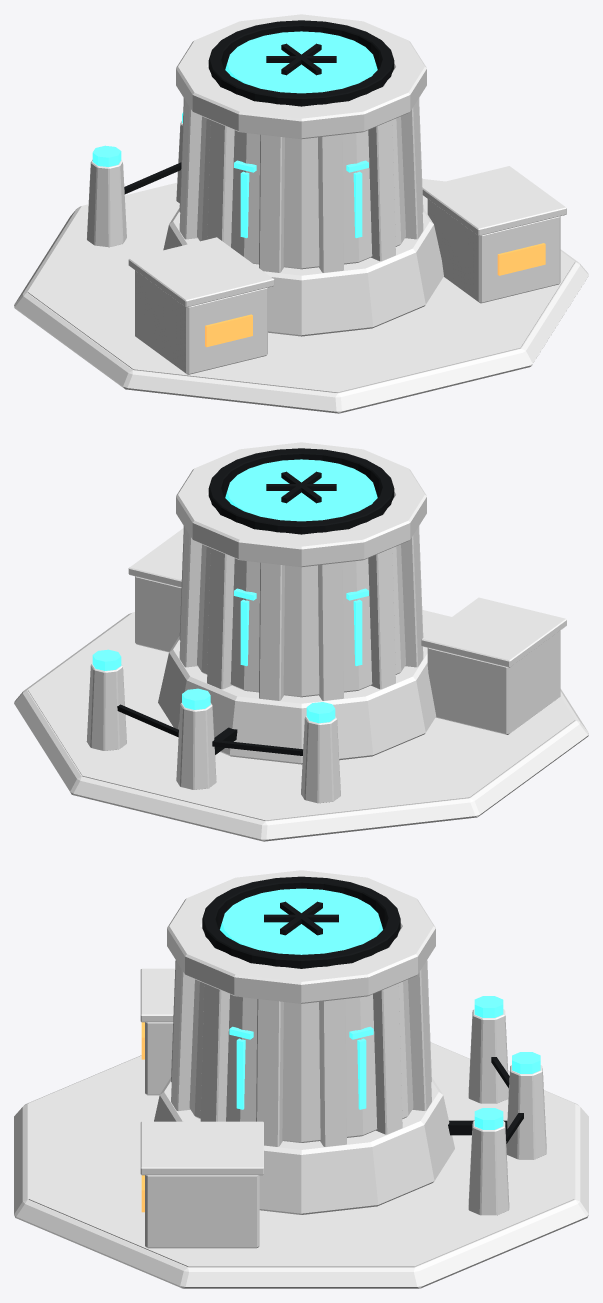
The model's file is sb_power_t1.glb.
The picture shows the model from 3 angles, top to bottom: view 1: azimuth 30°, elevation 25°; view 2: azimuth 150°, elevation 25°; view 3: azimuth 270°, elevation 25°; orthographic projection. The views are drawn at different scales.
Visible parts, largest first — view 1: SM_PWR_DECK, SM_PWR_RIBS, SM_PWR_BASE, SM_PWR_DRUM, SM_PWR_TOP_RING, SM_PWR_SKIRT, SM_PWR_ANNEX_0, SM_PWR_ANNEX_1, SM_PWR_CORE, SM_PWR_ANNEX_0_ROOF, SM_PWR_ANNEX_1_ROOF, SM_PWR_TOP_RIM (+6 smaller); view 2: SM_PWR_DECK, SM_PWR_RIBS, SM_PWR_SKIRT, SM_PWR_BASE, SM_PWR_DRUM, SM_PWR_TOP_RING, SM_PWR_CAPACITORS, SM_PWR_ANNEX_0, SM_PWR_CORE, SM_PWR_ANNEX_0_ROOF, SM_PWR_TOP_RIM, SM_PWR_ANNEX_1 (+5 smaller); view 3: SM_PWR_DECK, SM_PWR_RIBS, SM_PWR_BASE, SM_PWR_DRUM, SM_PWR_SKIRT, SM_PWR_TOP_RING, SM_PWR_CAPACITORS, SM_PWR_ANNEX_1, SM_PWR_CORE, SM_PWR_ANNEX_1_ROOF, SM_PWR_TOP_RIM, SM_PWR_ANNEX_0 (+5 smaller).
Part boxes in pixels (left/top/right/bottom): SM_PWR_DECK: left=27, top=179, right=574, bottom=392; SM_PWR_RIBS: left=179, top=98, right=423, bottom=272; SM_PWR_BASE: left=14, top=206, right=588, bottom=413; SM_PWR_DRUM: left=197, top=116, right=405, bottom=269; SM_PWR_TOP_RING: left=176, top=14, right=426, bottom=139; SM_PWR_SKIRT: left=163, top=208, right=443, bottom=336; SM_PWR_ANNEX_0: left=135, top=270, right=267, bottom=374; SM_PWR_ANNEX_1: left=427, top=199, right=560, bottom=303; SM_PWR_CORE: left=225, top=31, right=377, bottom=93; SM_PWR_ANNEX_0_ROOF: left=128, top=237, right=274, bottom=307; SM_PWR_ANNEX_1_ROOF: left=422, top=166, right=566, bottom=235; SM_PWR_TOP_RIM: left=208, top=20, right=394, bottom=106; SM_PWR_DECK: left=28, top=610, right=575, bottom=820; SM_PWR_RIBS: left=179, top=526, right=423, bottom=700; SM_PWR_SKIRT: left=158, top=636, right=436, bottom=764; SM_PWR_BASE: left=14, top=613, right=588, bottom=841; SM_PWR_DRUM: left=197, top=544, right=405, bottom=697; SM_PWR_TOP_RING: left=176, top=442, right=426, bottom=567; SM_PWR_CAPACITORS: left=86, top=663, right=340, bottom=803; SM_PWR_ANNEX_0: left=427, top=630, right=560, bottom=734; SM_PWR_CORE: left=225, top=459, right=377, bottom=521; SM_PWR_ANNEX_0_ROOF: left=421, top=597, right=566, bottom=667; SM_PWR_TOP_RIM: left=208, top=448, right=394, bottom=534; SM_PWR_ANNEX_1: left=135, top=576, right=181, bottom=652; SM_PWR_DECK: left=28, top=1043, right=574, bottom=1267; SM_PWR_RIBS: left=171, top=960, right=431, bottom=1146; SM_PWR_BASE: left=14, top=1042, right=588, bottom=1288; SM_PWR_DRUM: left=189, top=979, right=413, bottom=1142; SM_PWR_SKIRT: left=154, top=1078, right=454, bottom=1214; SM_PWR_TOP_RING: left=167, top=870, right=435, bottom=1003; SM_PWR_CAPACITORS: left=468, top=1009, right=546, bottom=1215; SM_PWR_ANNEX_1: left=145, top=1175, right=259, bottom=1248; SM_PWR_CORE: left=220, top=888, right=382, bottom=954; SM_PWR_ANNEX_1_ROOF: left=140, top=1121, right=263, bottom=1175; SM_PWR_TOP_RIM: left=202, top=876, right=400, bottom=968; SM_PWR_ANNEX_0: left=145, top=1022, right=173, bottom=1095.
Bounding box in the file's own units: 26.08 × 12.6 × 26.08.
